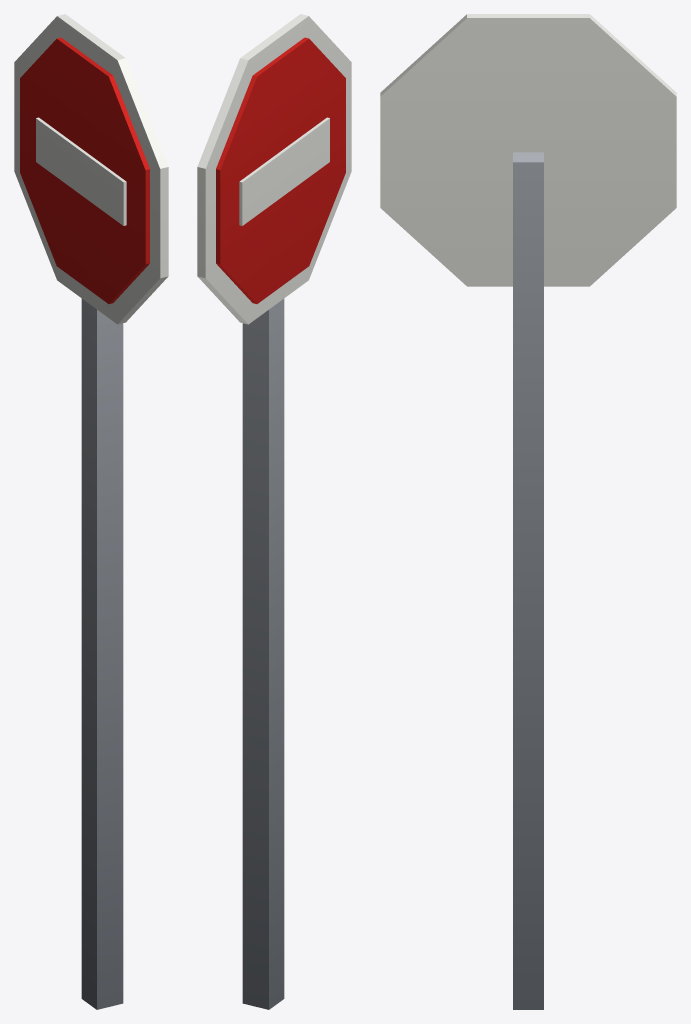
The model's file is StopSign.fbx.
The picture shows the model from 3 angles, left to right: view 1: azimuth 30°, elevation 25°; view 2: azimuth 150°, elevation 25°; view 3: azimuth 270°, elevation 25°; orthographic projection.
Visible parts, largest first — view 1: StopSign_LOD0; view 2: StopSign_LOD0; view 3: StopSign_LOD0.
Part boxes in pixels (box(x1,y1,x2,y2)): StopSign_LOD0: box(14, 14, 168, 1009); StopSign_LOD0: box(197, 14, 351, 1009); StopSign_LOD0: box(380, 14, 676, 1009).
Size of the model in its own units: 0.019 by 0.4865 by 0.133.
Materials: 1 (1 with a texture image).
